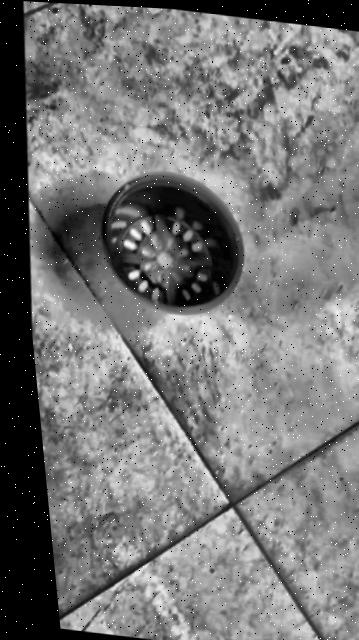pot: (88, 163, 254, 321)
